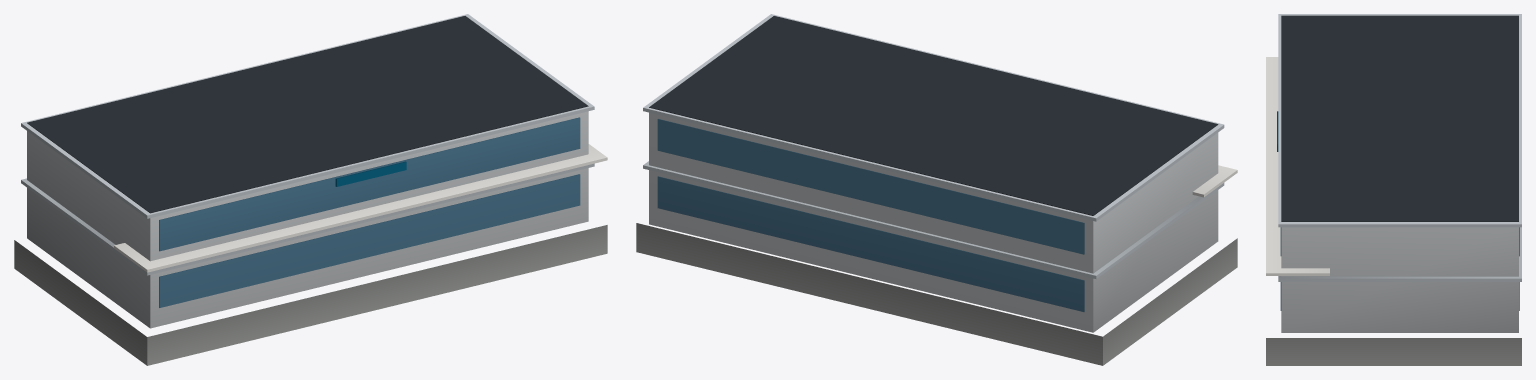
File: media-centre.glb
3 renders of one model, left to right at view 1: azimuth 30°, elevation 25°; view 2: azimuth 150°, elevation 25°; view 3: azimuth 270°, elevation 25°, orthographic. The views are drawn at different scales.
Visible parts, largest first — view 1: media-centre; view 2: media-centre; view 3: media-centre.
Boxes of the visible parts, box(x1,y1,x2,y2) form: media-centre: box(14, 14, 607, 365); media-centre: box(636, 14, 1237, 365); media-centre: box(1266, 14, 1521, 365).
Size of the model in its own units: 50 by 15 by 25.
